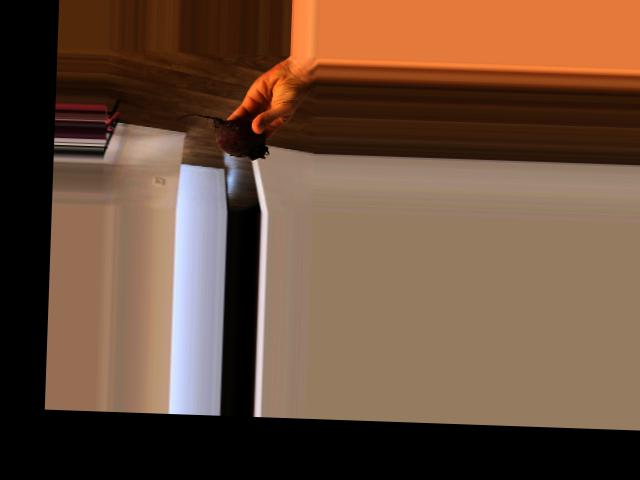beet: (174, 113, 269, 160)
